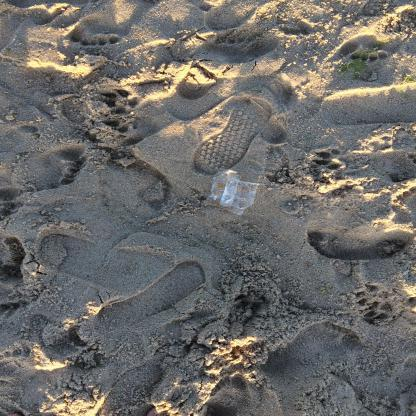plastik: (206, 168, 261, 217)
